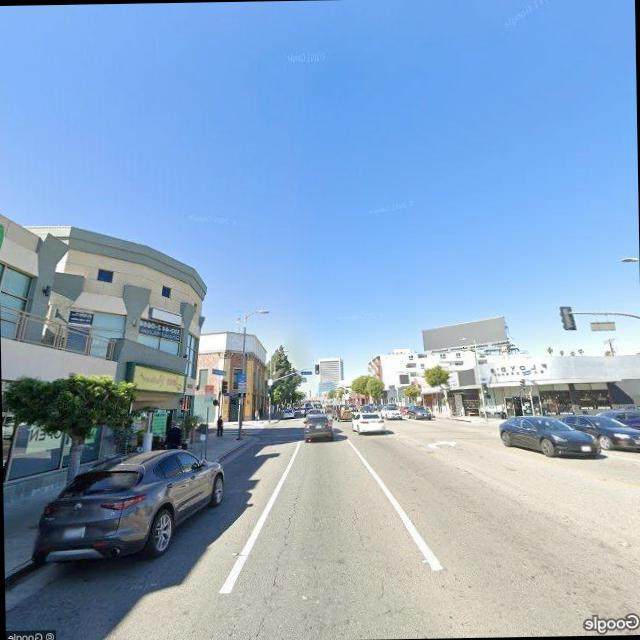pothole: (239, 487, 307, 640), (350, 500, 368, 552)
